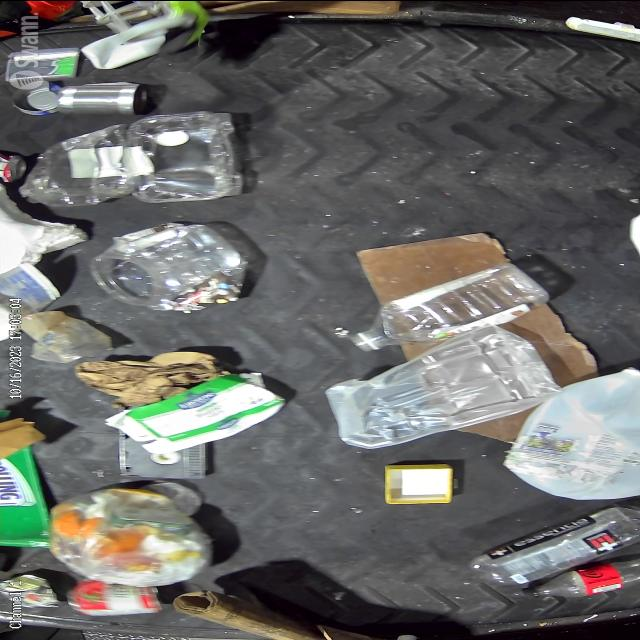can: (68, 580, 153, 618)
milk_jug: (492, 367, 640, 501)
plastic_bottle: (340, 262, 550, 352), (468, 503, 640, 582), (514, 556, 638, 596)
